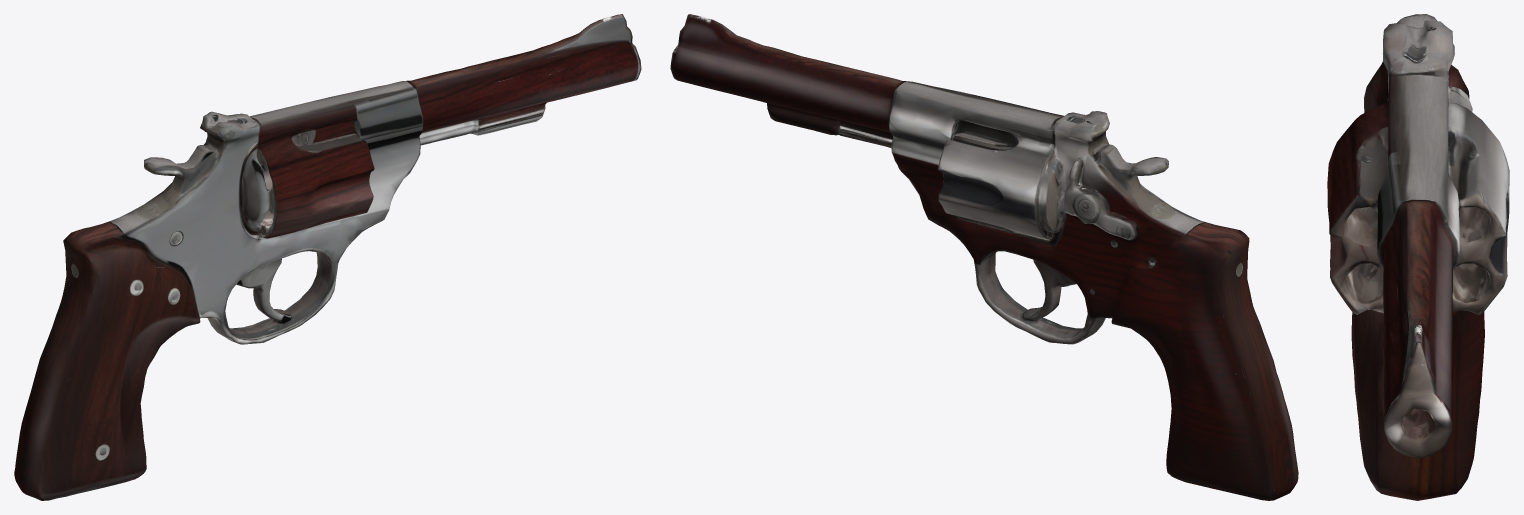
File: revolver.glb
3 views of the same model, side by side, from view 1: azimuth 30°, elevation 25°; view 2: azimuth 150°, elevation 25°; view 3: azimuth 270°, elevation 25° (orthographic). The views are drawn at different scales.
Bounding box in the file's own units: 2.01 × 1.06 × 0.3157.
Materials: 1 (1 with a texture image).
